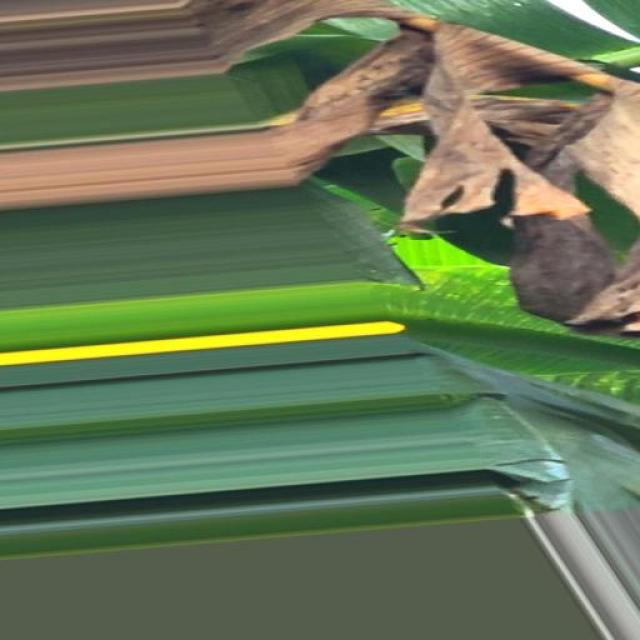Bract_mosaic_virus: (1, 0, 640, 351)
